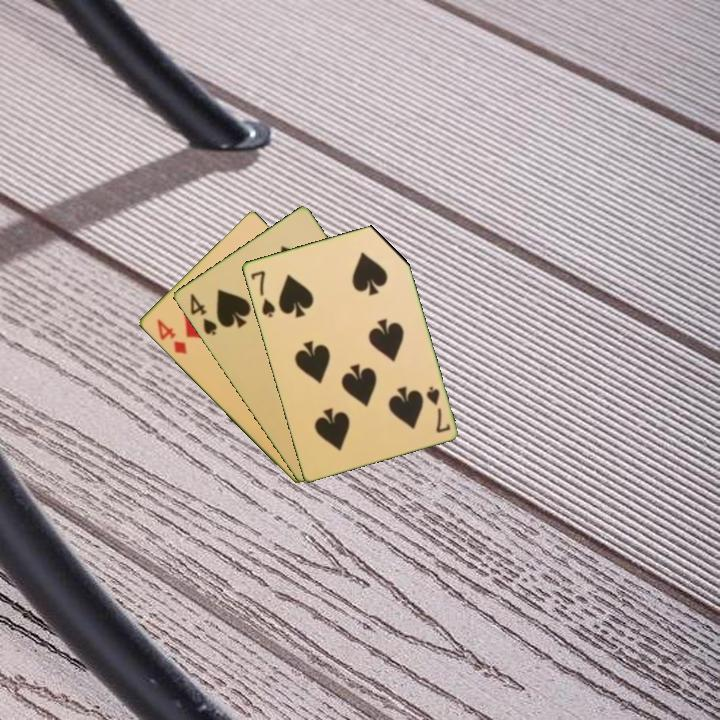4d: (153, 316, 190, 357)
4s: (186, 290, 220, 338)
7s: (247, 267, 278, 320), (422, 383, 453, 435)
